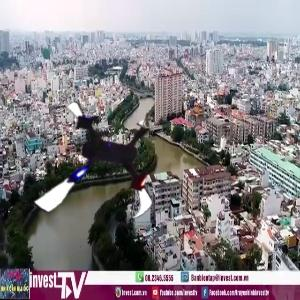drone: (23, 93, 170, 240)
